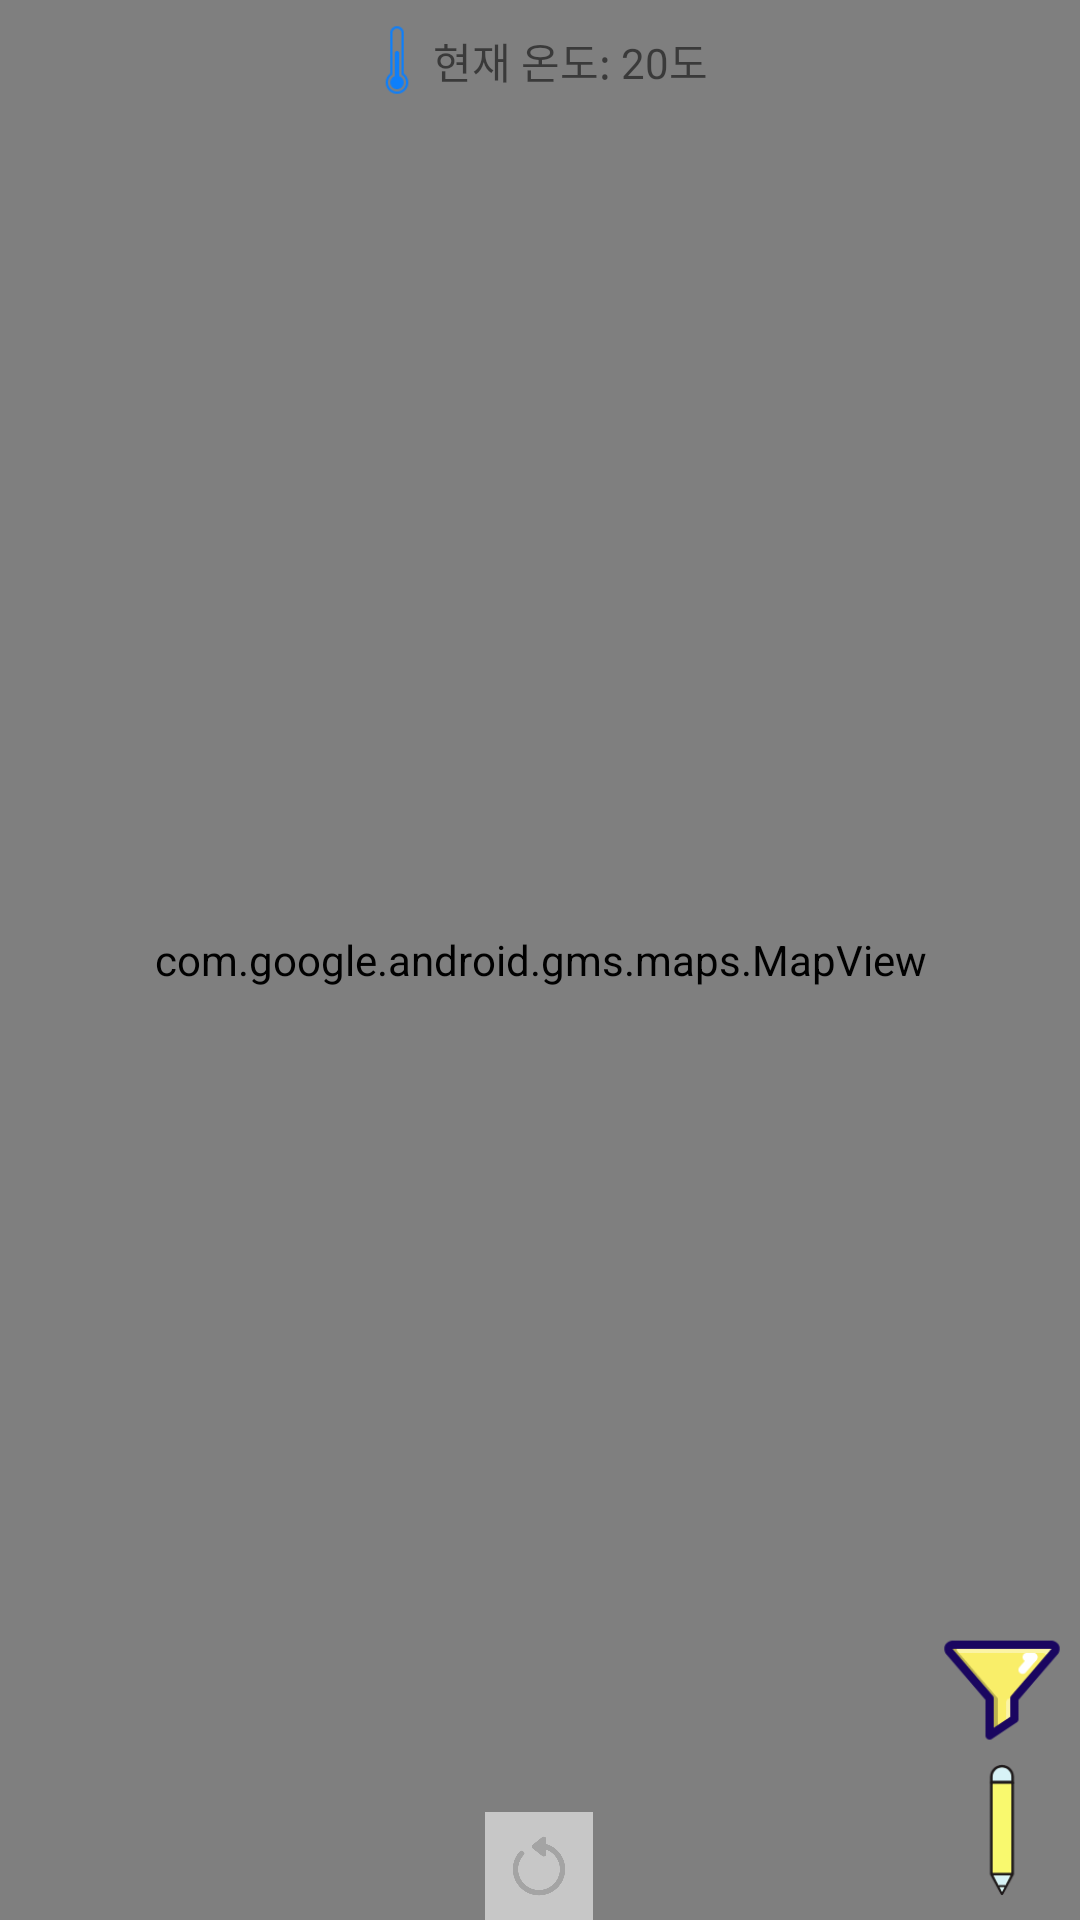

Where to tap for icons on this 1080w x 1920h app screen, as (x,y):
filter: (1002,1690)
reload: (539,1866)
thermometer: (397,60)
write: (1002,1830)
